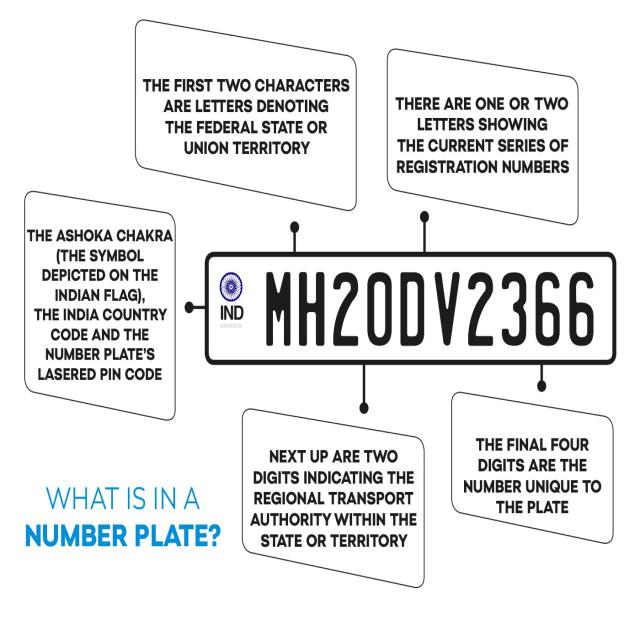plate: (203, 248, 620, 368)
